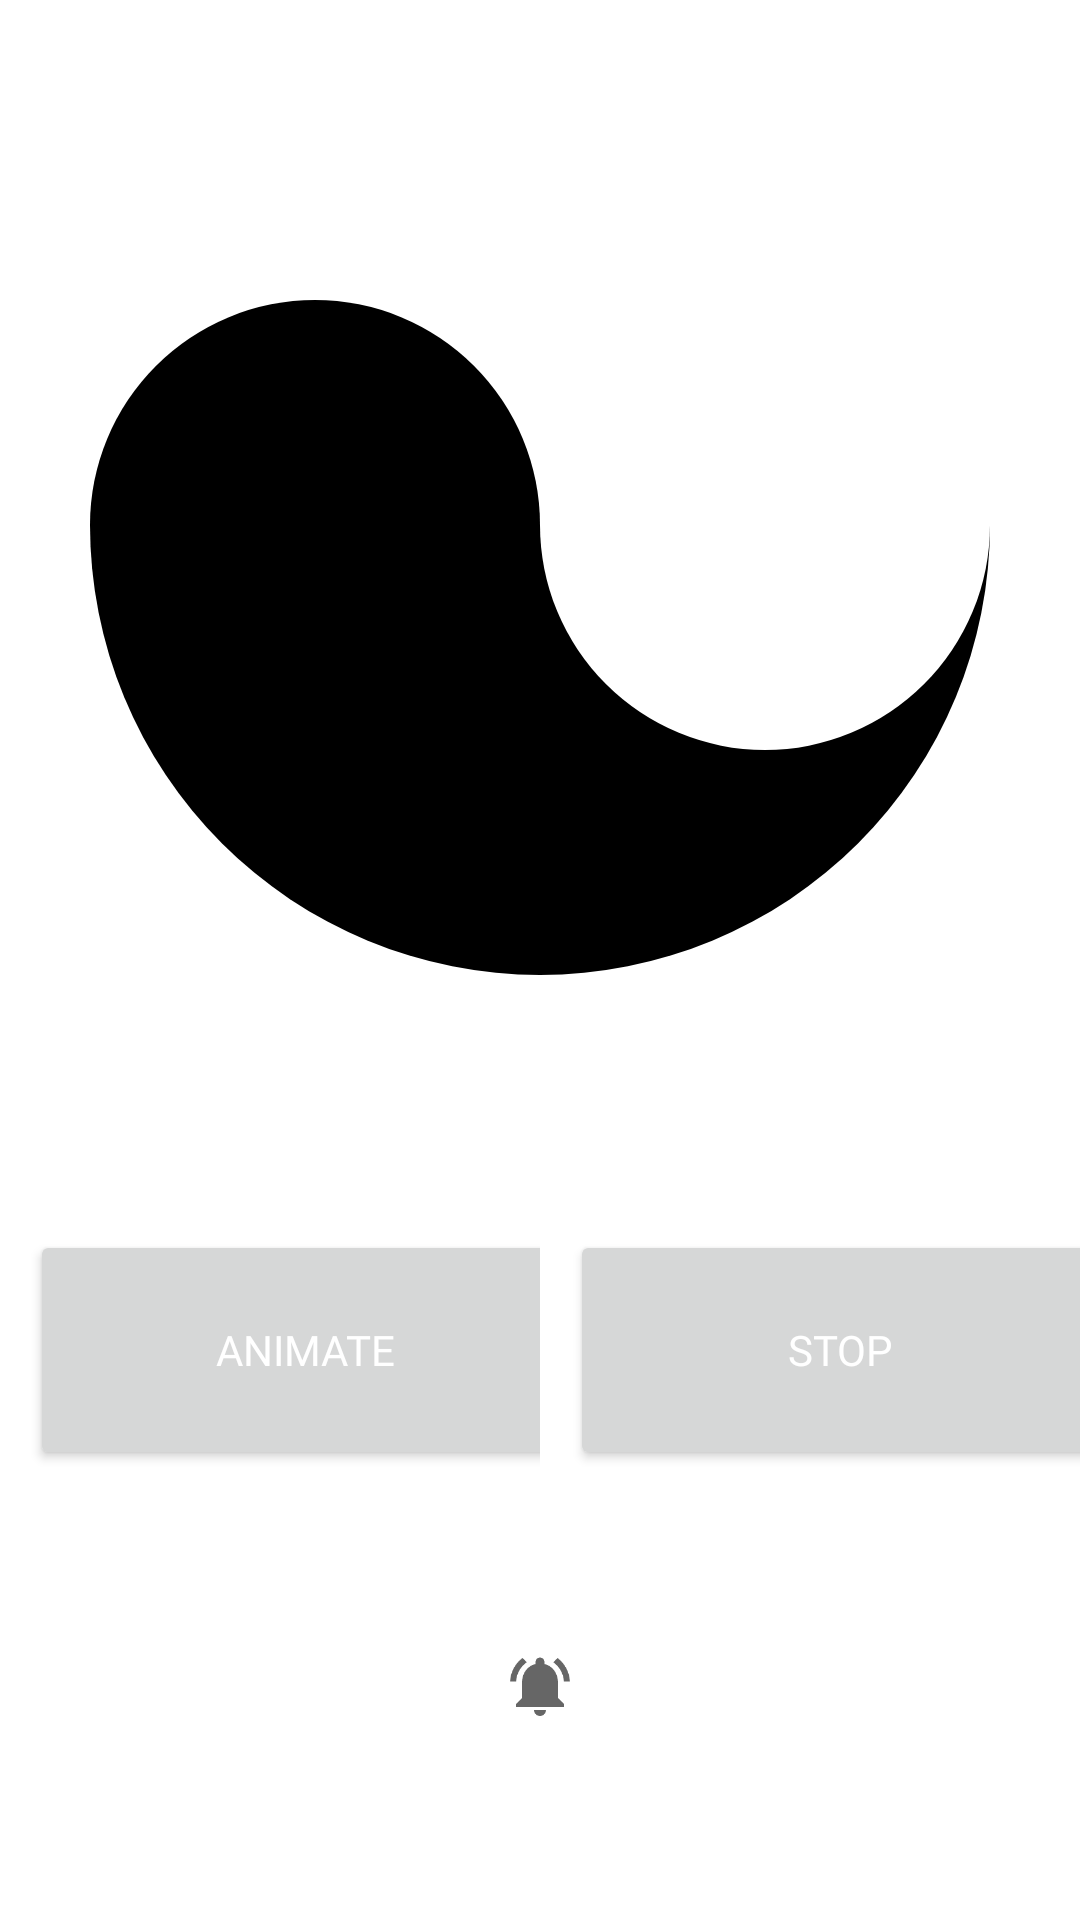

Screen size 1080px x 1920px. Icon name, then its box in pixels as (x1, y1, x2, y2):
notification: (510, 1657, 570, 1716)
